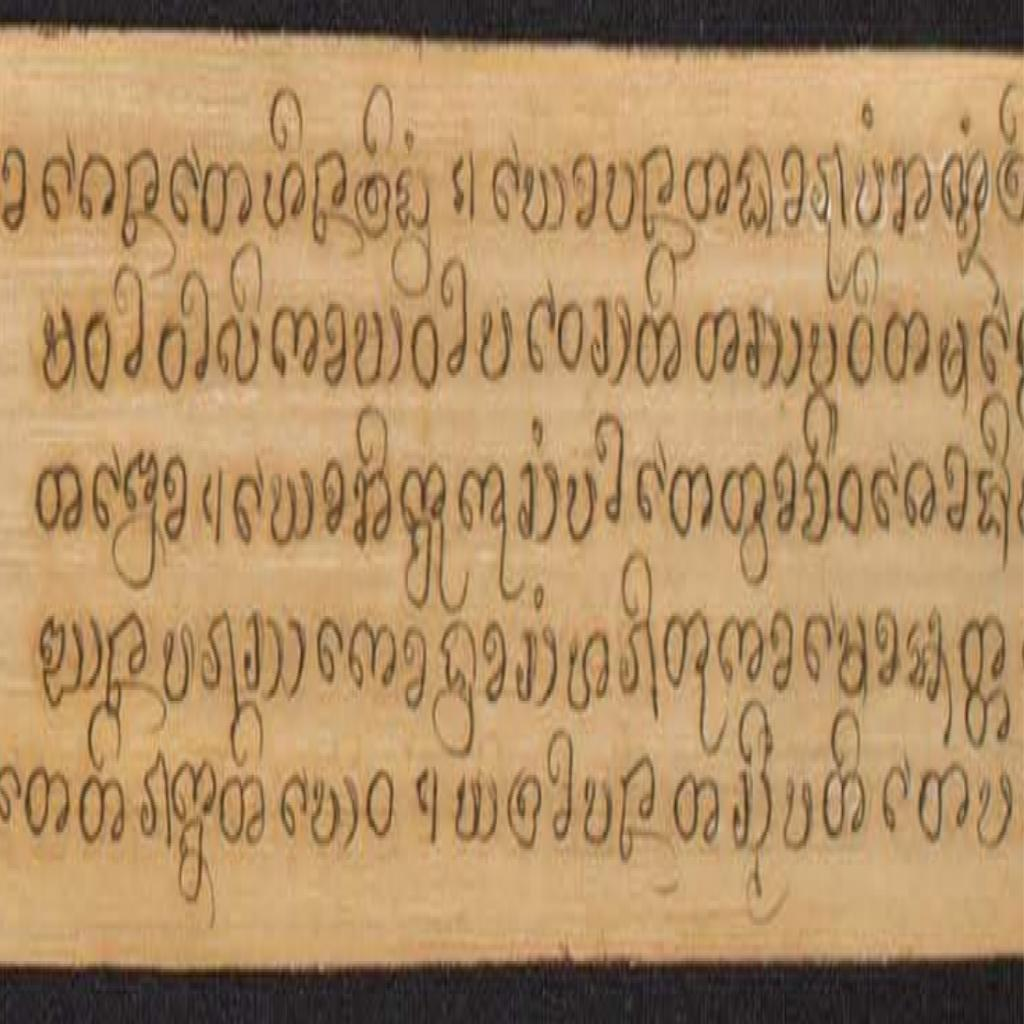LN024: (565, 463, 600, 553)
